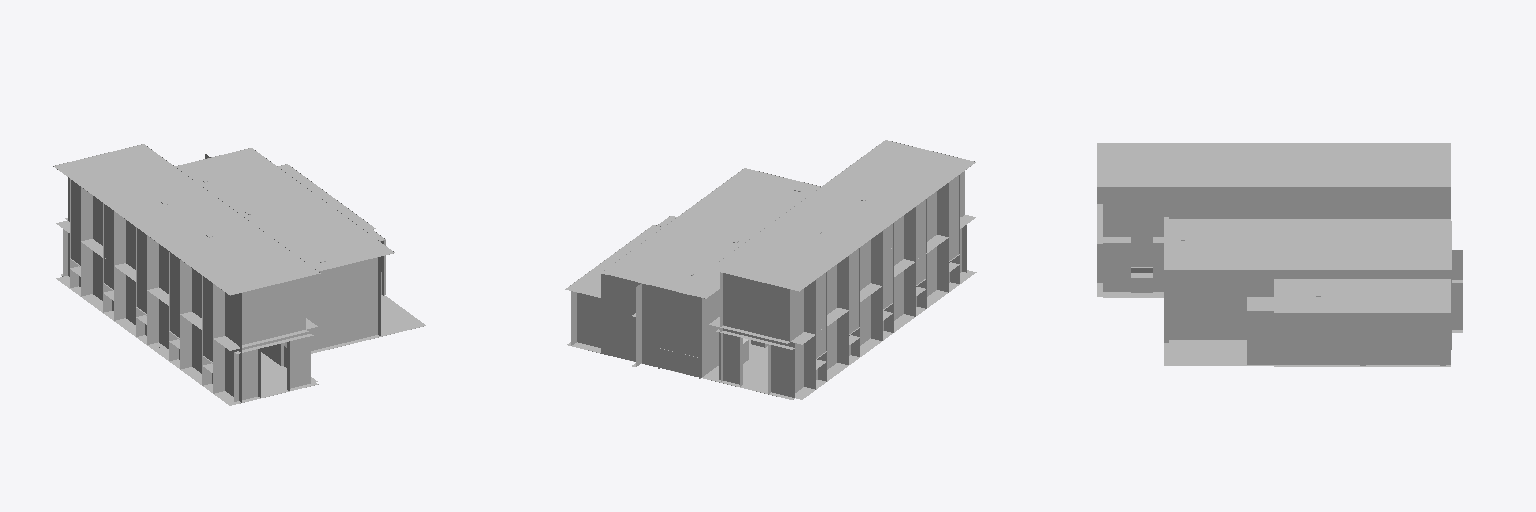
The model's file is LC_cont2_scps2.obj.
The picture shows the model from 3 angles: view 1: azimuth 30°, elevation 25°; view 2: azimuth 150°, elevation 25°; view 3: azimuth 270°, elevation 25°; orthographic projection.
Visible parts, largest first — view 1: room2scps2_opt; view 2: room2scps2_opt; view 3: room2scps2_opt.
Part boxes in pixels (left/top/right/bottom): room2scps2_opt: left=53, top=144, right=425, bottom=405; room2scps2_opt: left=565, top=140, right=976, bottom=399; room2scps2_opt: left=1097, top=143, right=1462, bottom=366.
Size of the model in its own units: 15.68 by 7.16 by 21.12.